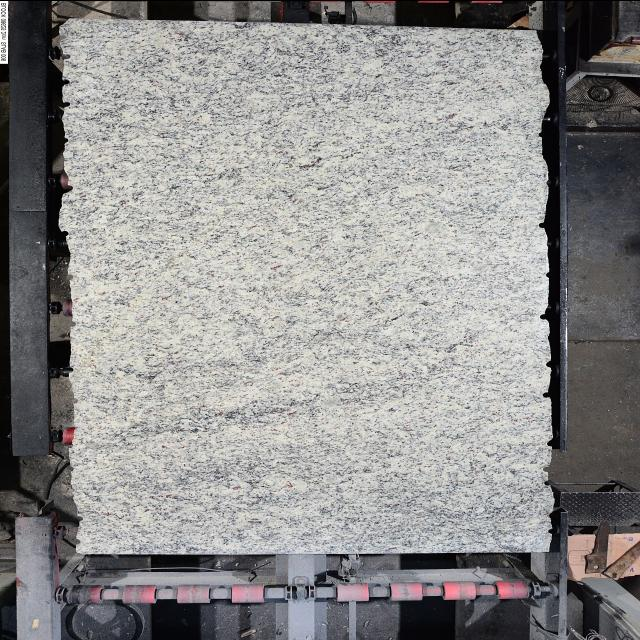chapa: (60, 19, 553, 552)
